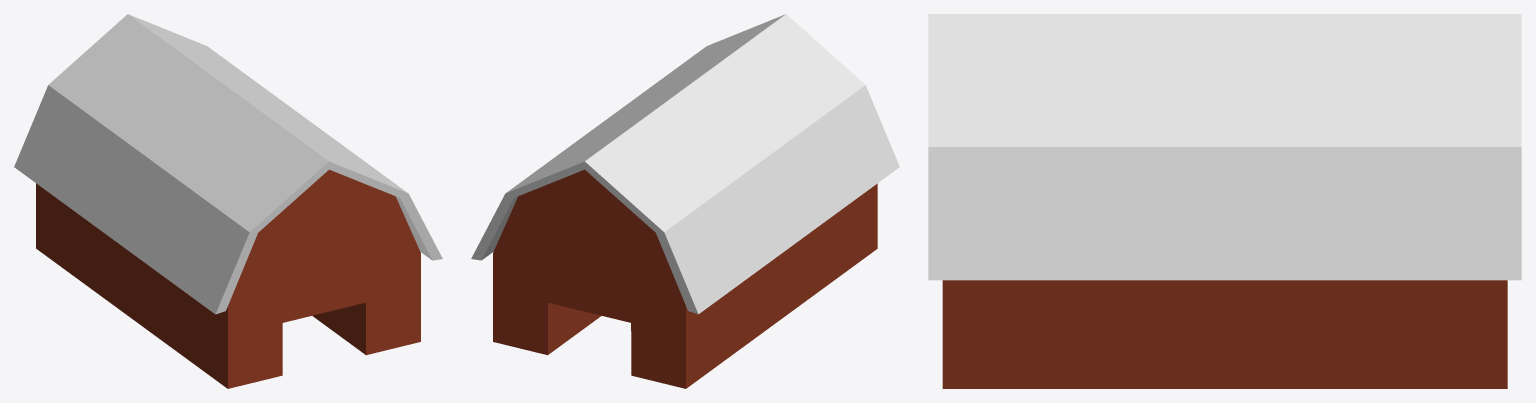
The model's file is house1.fbx.
The picture shows the model from 3 angles, left to right: view 1: azimuth 30°, elevation 25°; view 2: azimuth 150°, elevation 25°; view 3: azimuth 270°, elevation 25°; orthographic projection. The views are drawn at different scales.
Parts seen in each view (by area): view 1: Plane.001, Plane; view 2: Plane.001, Plane; view 3: Plane.001, Plane.
Boxes of the visible parts, x1,y1,x2,y2 form: Plane.001: (14, 14, 442, 314); Plane: (36, 169, 420, 388); Plane.001: (471, 14, 899, 314); Plane: (493, 169, 877, 388); Plane.001: (928, 14, 1521, 280); Plane: (942, 280, 1507, 388).
Size of the model in its own units: 547 by 477 by 839.
